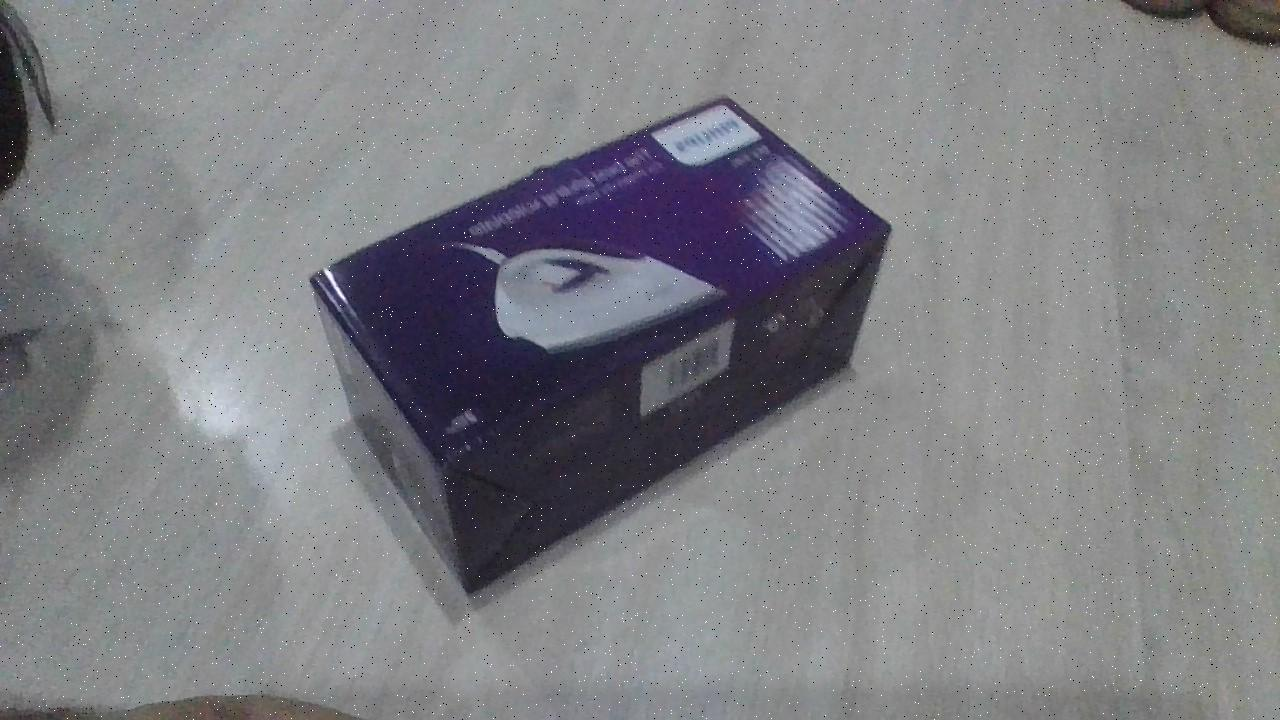IRON: (306, 92, 896, 600)
